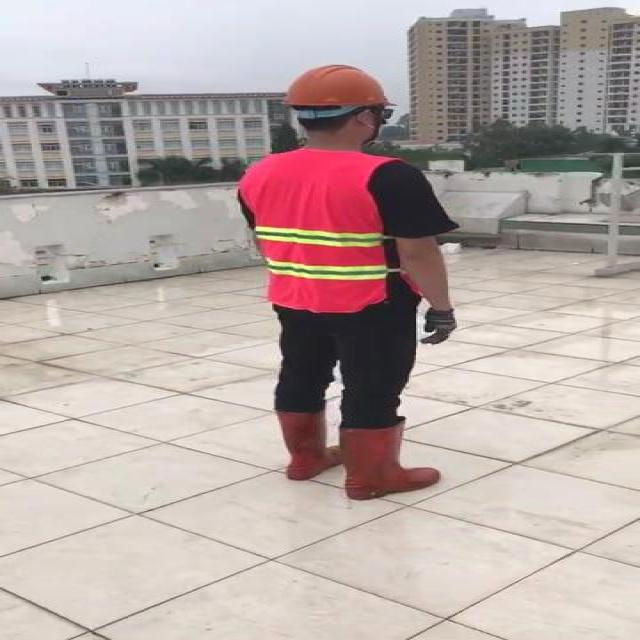boots: (342, 419, 444, 499), (266, 406, 340, 484)
hand_glove: (426, 307, 461, 348)
head_helmet: (273, 60, 397, 108)
person: (220, 60, 464, 505)
vest: (236, 149, 404, 316)
